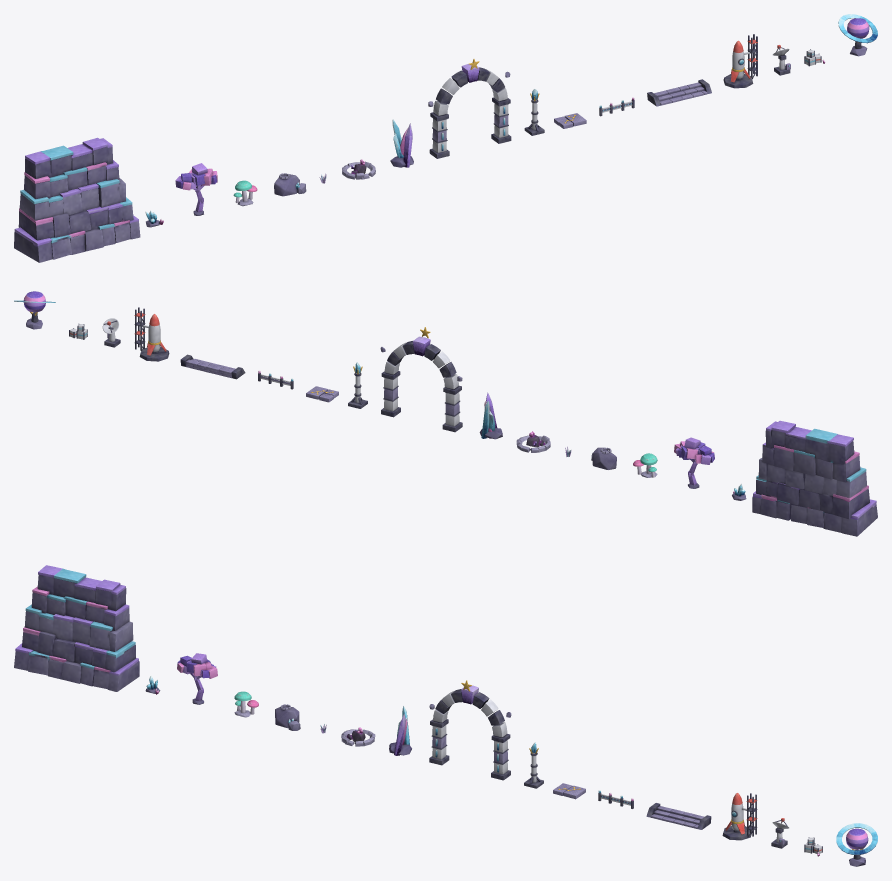
Rendered from Decors_Cosmos.fbx.
3 views of the same model, one above another, from view 1: azimuth 30°, elevation 25°; view 2: azimuth 150°, elevation 25°; view 3: azimuth 330°, elevation 25° (orthographic).
Visible parts, largest first — view 1: Cosmos_Falaise, Cosmos_PorteStellaire, Cosmos_Fusee, Cosmos_Planete, Cosmos_ArbreAlien, Cosmos_Escalier, Cosmos_Aiguille, Cosmos_Rocher; view 2: Cosmos_Falaise, Cosmos_PorteStellaire, Cosmos_Fusee, Cosmos_ArbreAlien, Cosmos_Escalier, Cosmos_Planete, Cosmos_Aiguille, Cosmos_Meteorite; view 3: Cosmos_Falaise, Cosmos_PorteStellaire, Cosmos_Planete, Cosmos_Fusee, Cosmos_ArbreAlien, Cosmos_Escalier, Cosmos_Aiguille.
Part boxes in pixels (bbox=[...]): Cosmos_Falaise: bbox=[14, 137, 140, 262]; Cosmos_PorteStellaire: bbox=[428, 59, 511, 158]; Cosmos_Fusee: bbox=[723, 34, 757, 88]; Cosmos_Planete: bbox=[838, 14, 877, 56]; Cosmos_ArbreAlien: bbox=[175, 163, 217, 215]; Cosmos_Escalier: bbox=[647, 79, 711, 106]; Cosmos_Aiguille: bbox=[390, 119, 413, 167]; Cosmos_Rocher: bbox=[274, 173, 306, 196]; Cosmos_Falaise: bbox=[752, 420, 877, 536]; Cosmos_PorteStellaire: bbox=[380, 327, 462, 432]; Cosmos_Fusee: bbox=[134, 307, 169, 361]; Cosmos_ArbreAlien: bbox=[674, 437, 714, 488]; Cosmos_Escalier: bbox=[180, 354, 245, 379]; Cosmos_Planete: bbox=[14, 291, 55, 329]; Cosmos_Aiguille: bbox=[479, 392, 502, 439]; Cosmos_Meteorite: bbox=[516, 431, 550, 452]; Cosmos_Falaise: bbox=[14, 565, 139, 691]; Cosmos_PorteStellaire: bbox=[429, 680, 511, 780]; Cosmos_Planete: bbox=[836, 823, 877, 866]; Cosmos_Fusee: bbox=[722, 793, 757, 840]; Cosmos_ArbreAlien: bbox=[177, 653, 217, 704]; Cosmos_Escalier: bbox=[646, 803, 711, 829]; Cosmos_Aiguille: bbox=[389, 706, 411, 755].
Bounding box in the file's own units: 293 × 29.98 × 15.03.
Materials: 17 (17 with a texture image).
